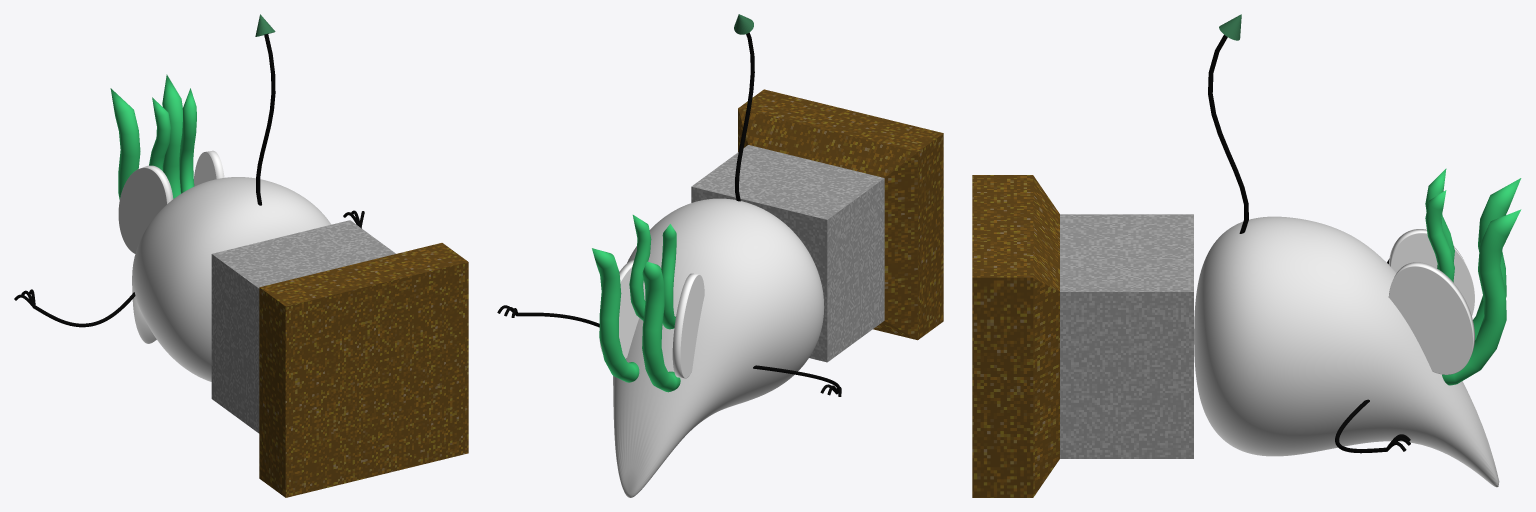
The model's file is ratStatue.fbx.
The picture shows the model from 3 angles, left to right: view 1: azimuth 30°, elevation 25°; view 2: azimuth 150°, elevation 25°; view 3: azimuth 270°, elevation 25°; orthographic projection. The views are drawn at different scales.
Visible parts, largest first — view 1: Pedestal, Sphere, Ears, HornBig, HornSmall, Tail, Arm; view 2: Pedestal, Sphere, HornBig, Ears, HornSmall, Tail; view 3: Pedestal, Sphere, Ears, HornBig, HornSmall, Tail.
Part boxes in pixels (left/top/right/bottom): Pedestal: left=211, top=220, right=468, bottom=497; Sphere: left=132, top=177, right=331, bottom=381; Ears: left=118, top=150, right=224, bottom=253; HornBig: left=110, top=74, right=182, bottom=199; HornSmall: left=149, top=88, right=196, bottom=193; Tail: left=256, top=34, right=275, bottom=205; Arm: left=32, top=292, right=135, bottom=327; Pedestal: left=691, top=89, right=943, bottom=362; Sphere: left=613, top=198, right=824, bottom=497; HornBig: left=592, top=248, right=680, bottom=392; Ears: left=599, top=259, right=704, bottom=378; HornSmall: left=629, top=215, right=676, bottom=329; Tail: left=735, top=32, right=754, bottom=201; Pedestal: left=972, top=175, right=1193, bottom=497; Sphere: left=1194, top=216, right=1499, bottom=487; Ears: left=1388, top=229, right=1474, bottom=374; HornBig: left=1442, top=178, right=1521, bottom=385; HornSmall: left=1425, top=168, right=1454, bottom=282; Tail: left=1208, top=35, right=1248, bottom=233.
Size of the model in its own units: 382 by 429 by 452.
Materials: 7 (2 with a texture image).
